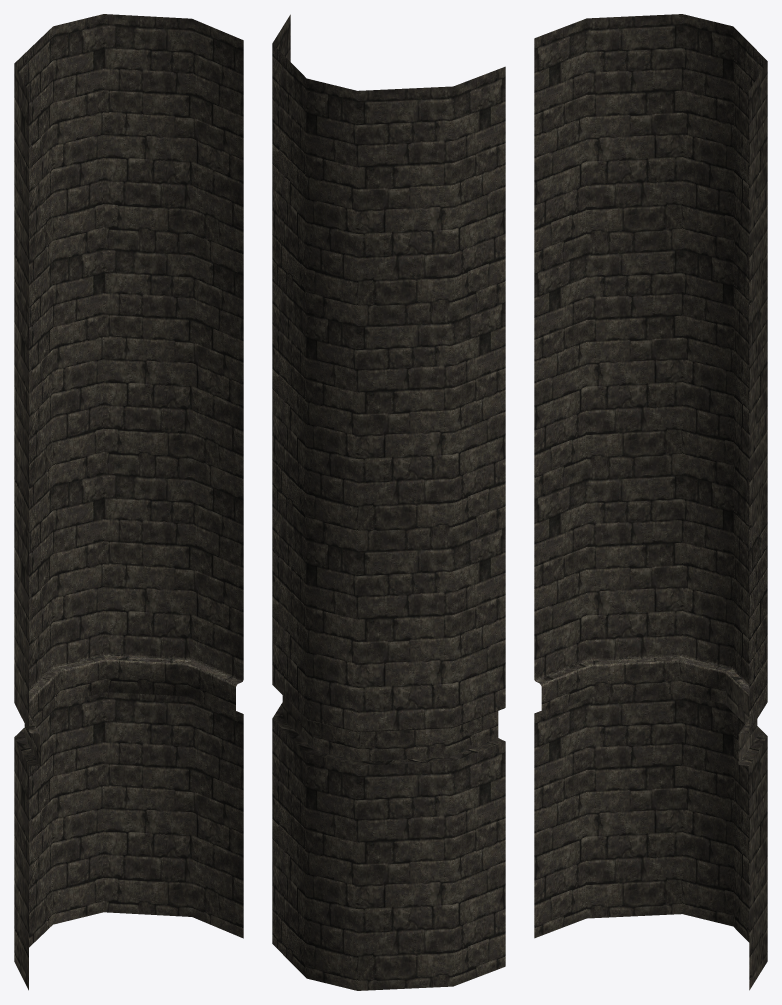
File: wallBlockIR.fbx
3 views of the same model, side by side, from view 1: azimuth 30°, elevation 25°; view 2: azimuth 150°, elevation 25°; view 3: azimuth 330°, elevation 25° (orthographic).
Visible parts, largest first — view 1: polySurface94; view 2: polySurface94; view 3: polySurface94.
Part boxes in pixels (x1,y1,x2,y2): polySurface94: [14, 14, 243, 990]; polySurface94: [272, 14, 505, 990]; polySurface94: [534, 14, 767, 990].
Size of the model in its own units: 2 by 8 by 1.03.
Materials: 1 (1 with a texture image).
